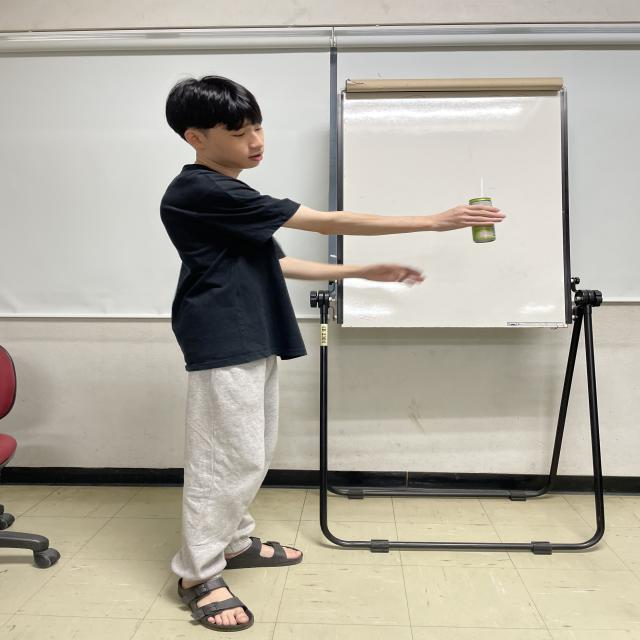can: (468, 197, 497, 243)
